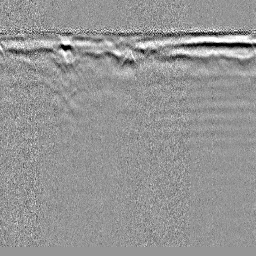cavity: (120, 49, 138, 67)
